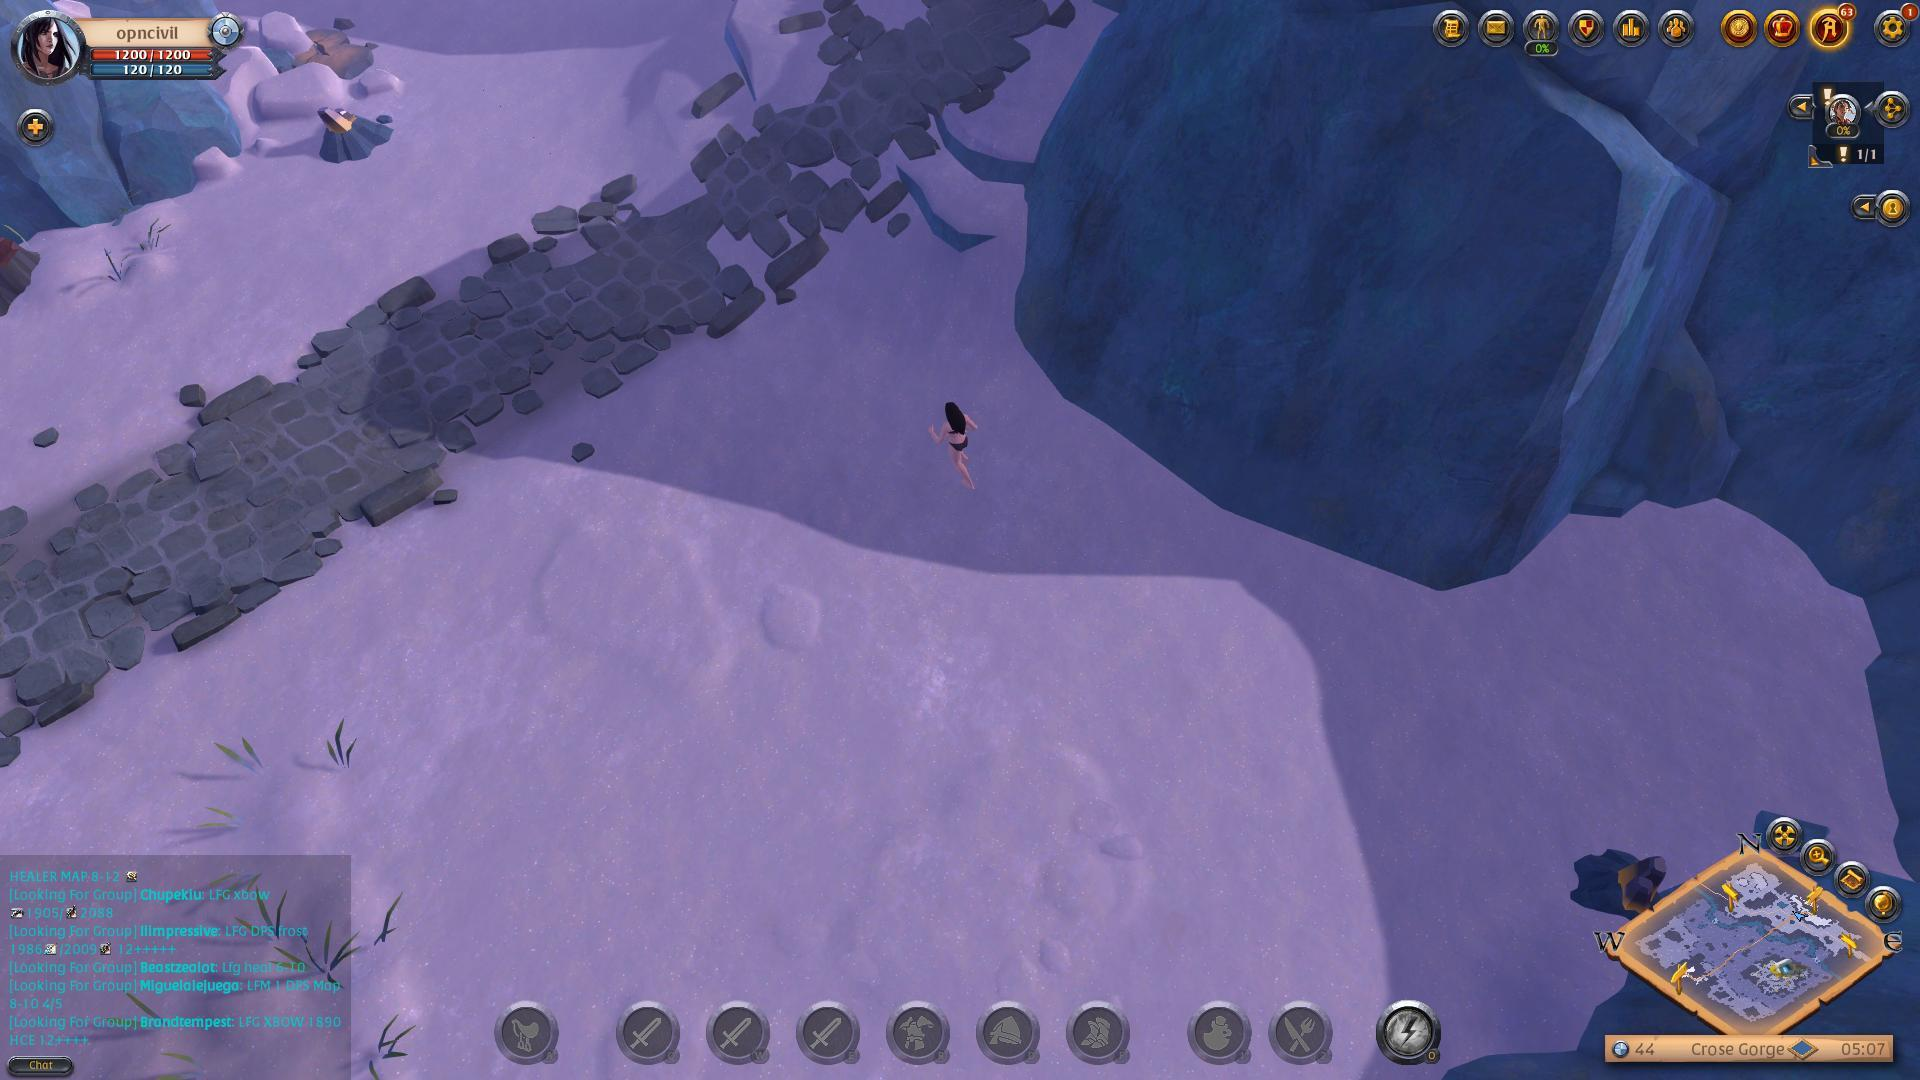copper_ore: (1575, 831, 1668, 926), (315, 99, 401, 171)
